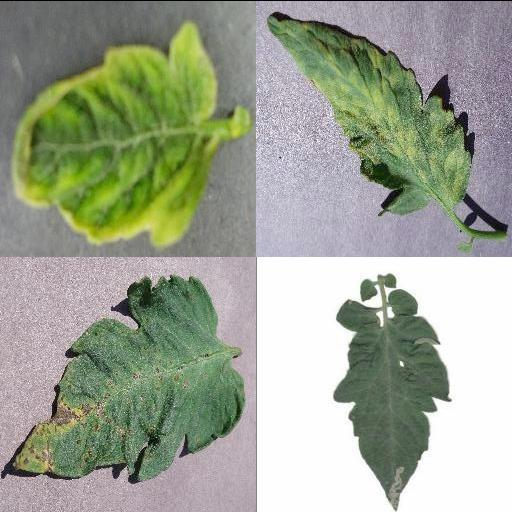Leaf Miner: (329, 312, 451, 511)
Leaf Mold: (267, 16, 473, 214)
Septoria: (8, 272, 246, 483)
Yellow Leaf Curl Virus: (11, 18, 217, 246)
